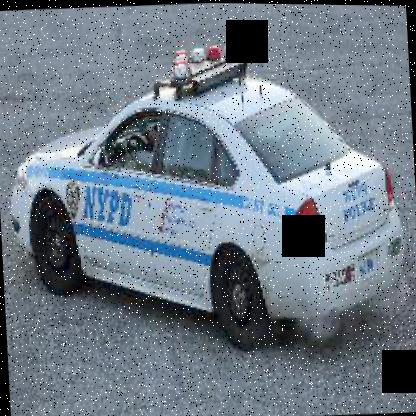emergency: (4, 28, 405, 373)
